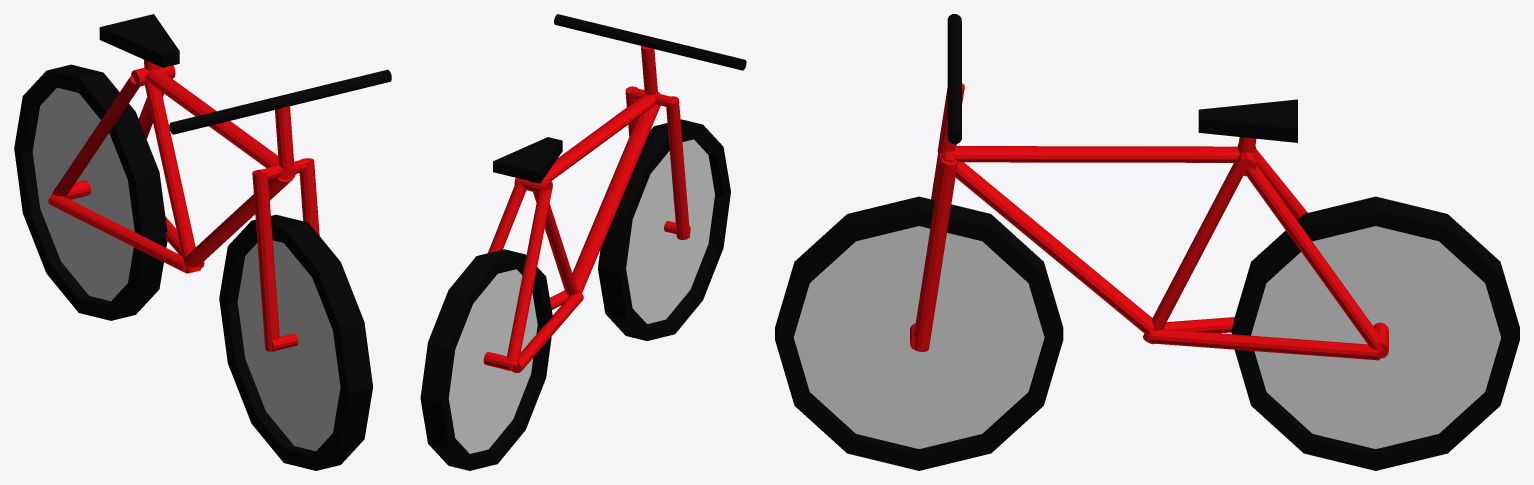
File: Bike.fbx
3 renders of one model, left to right at view 1: azimuth 30°, elevation 25°; view 2: azimuth 150°, elevation 25°; view 3: azimuth 270°, elevation 25°, orthographic. The views are drawn at different scales.
Visible parts, largest first — view 1: Cylinder.001; view 2: Cylinder.001; view 3: Cylinder.001.
Part boxes in pixels (x1=…): Cylinder.001: x1=14, y1=14, x2=391, y2=470; Cylinder.001: x1=420, y1=14, x2=746, y2=470; Cylinder.001: x1=775, y1=14, x2=1519, y2=470.
Size of the model in its own units: 48.23 by 129 by 75.04.
